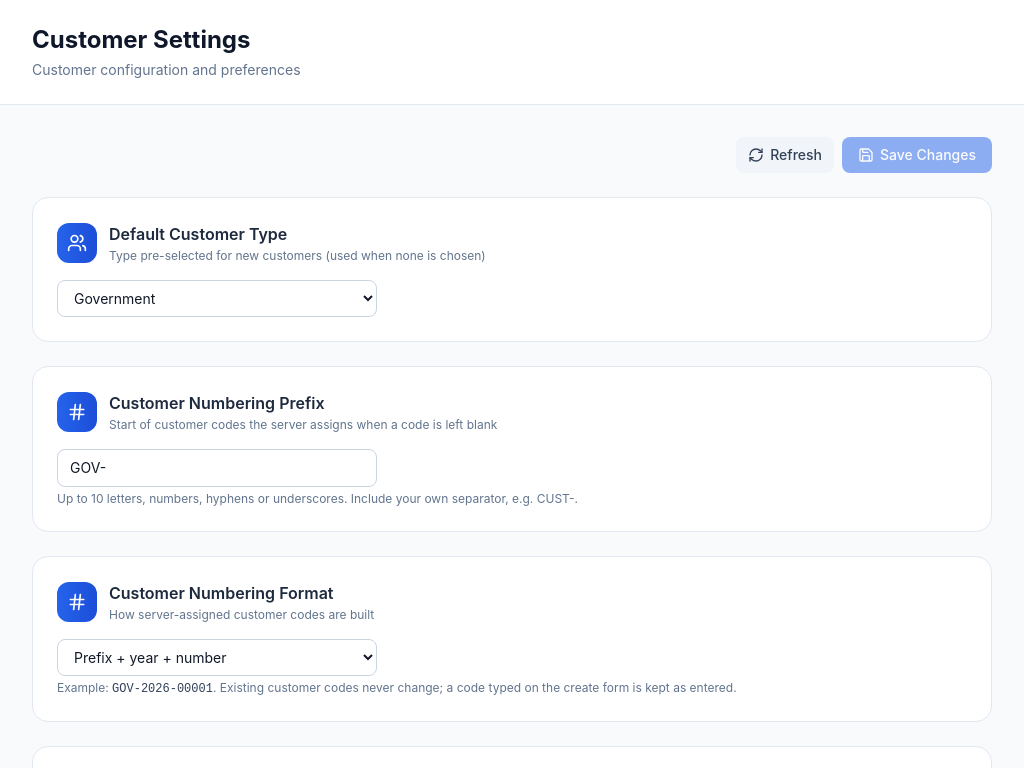
BUG-13 Customer Settings controls › an invalid prefix shows a field-specific error and blocks Save without losing other edits
Step 1. Select "Business" in the dropdown labelled "Default Customer Type" → (217, 298), box [57,280,377,317]
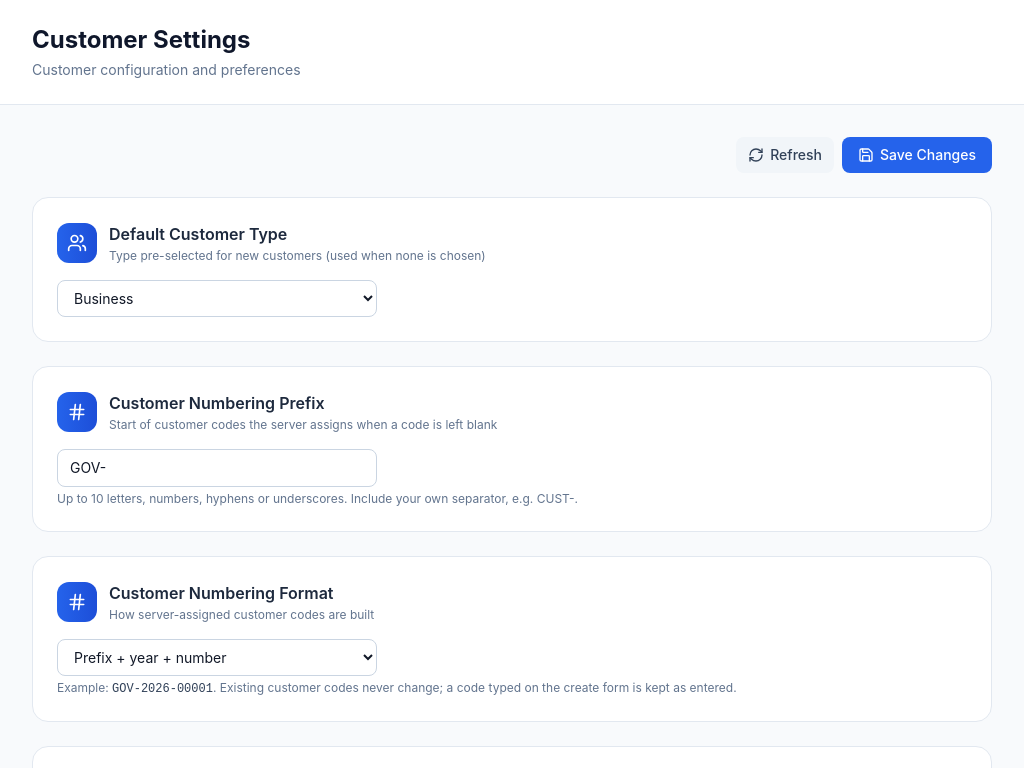
Step 2. Replace the text in the field labelled "Customer Numbering Prefix" with "bad prefix" → (217, 468), box [57,449,377,487]
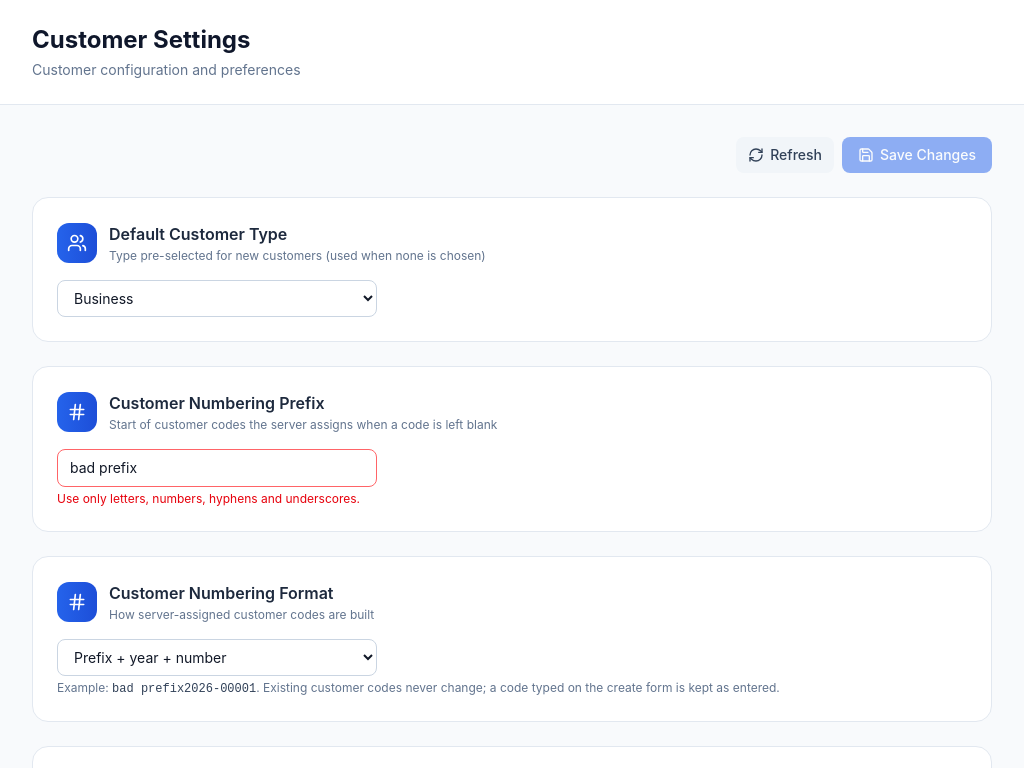
Expected: the message shows "letters, numbers, hyphens and underscores", [57,491,360,506]
Expected: the button "Save Changes" is disabled, [842,137,992,173]
Step 3. Replace the text in the field labelled "Customer Numbering Prefix" with "OK-" → (217, 468), box [57,449,377,487]
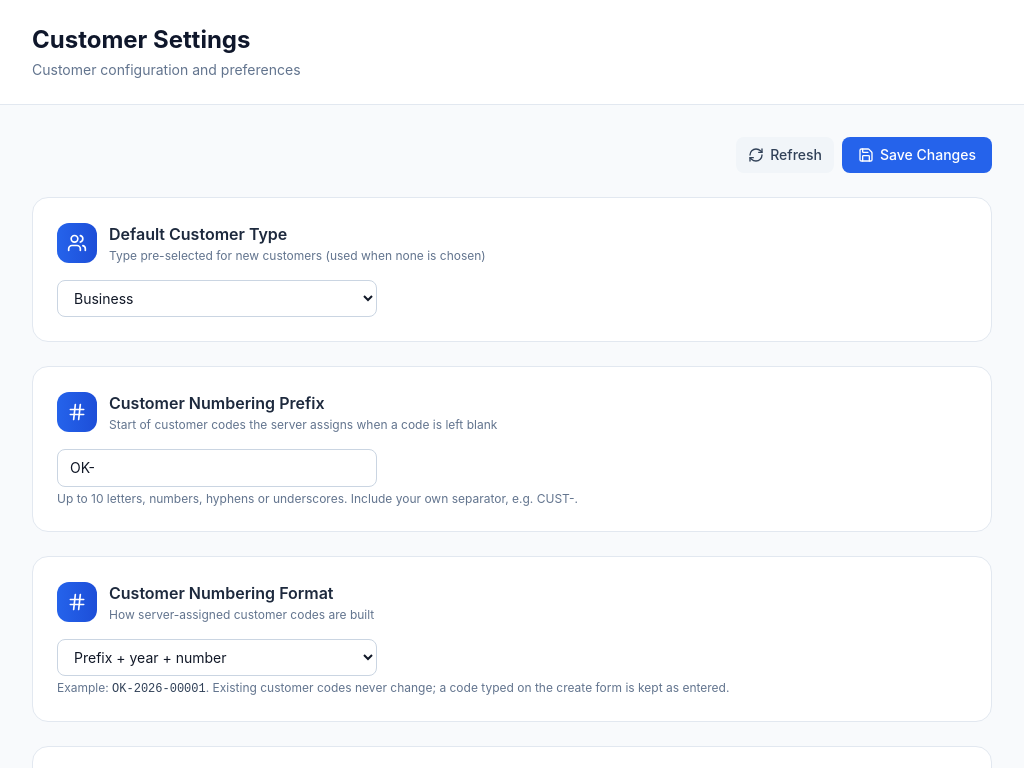
Expected: the button "Save Changes" is enabled, [842,137,992,173]
